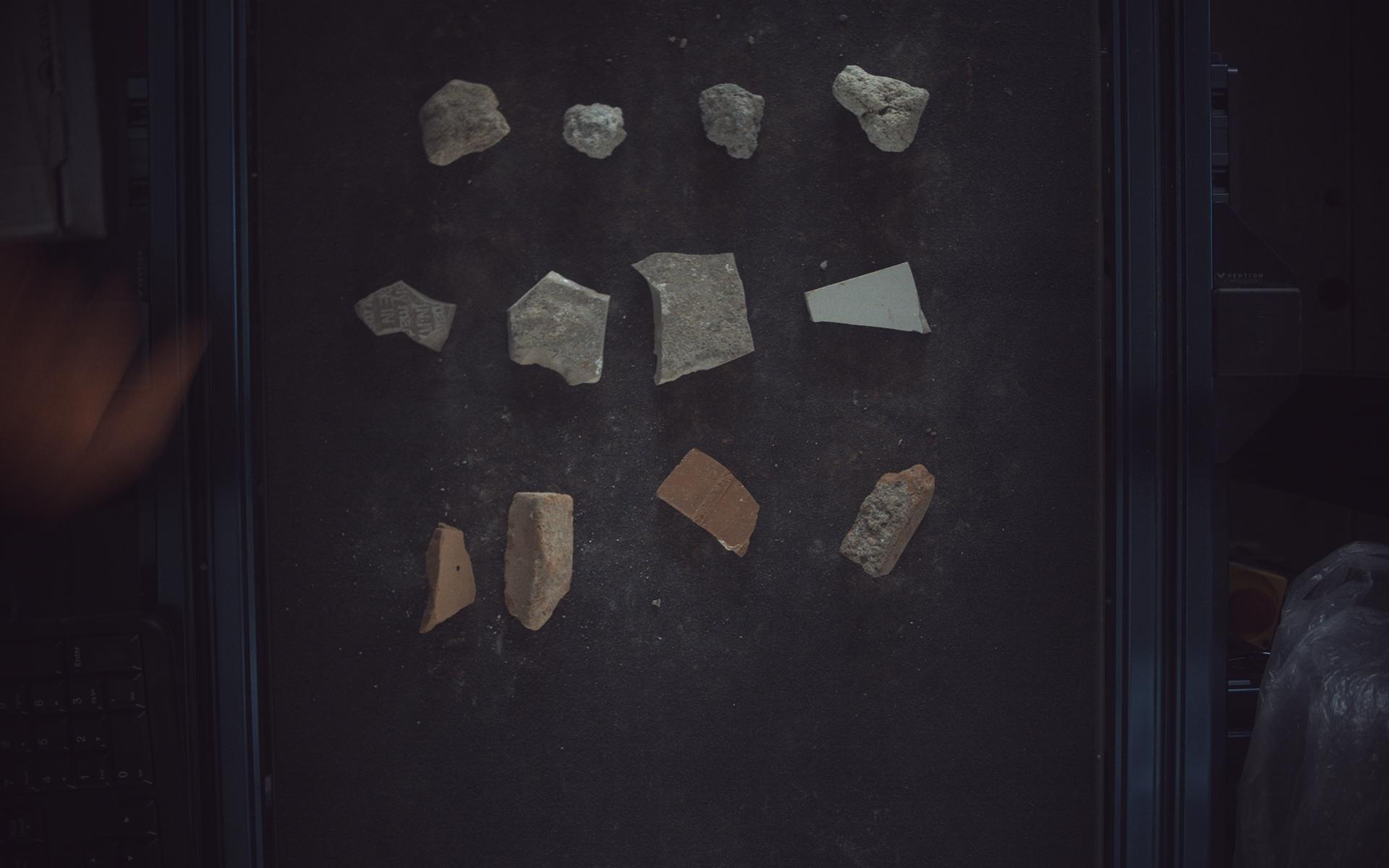brick: (658, 449, 761, 557), (841, 464, 936, 577), (505, 493, 574, 631), (420, 523, 475, 634)
concrete: (835, 64, 931, 152), (419, 79, 510, 165), (700, 82, 765, 158), (564, 102, 626, 158)
tile: (634, 252, 755, 385), (508, 271, 611, 386), (806, 262, 933, 333), (355, 280, 456, 352)
